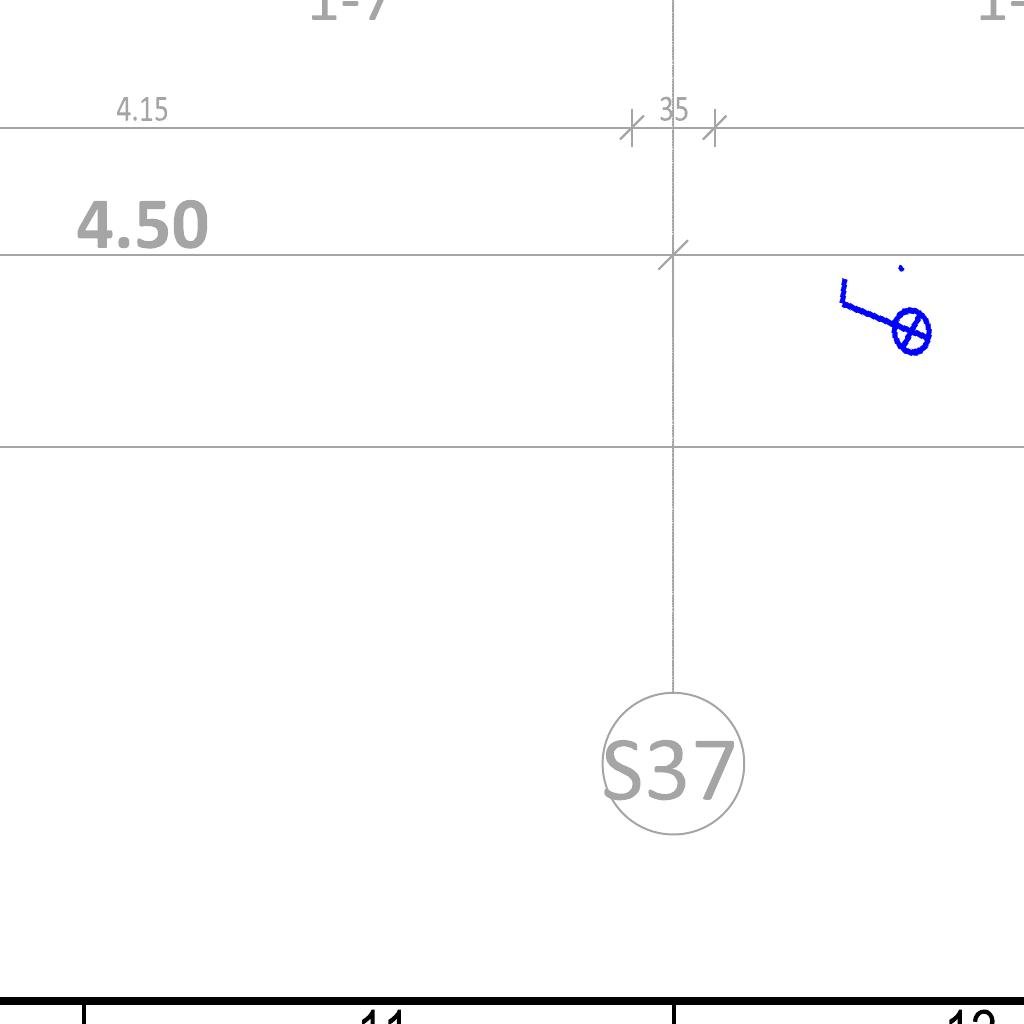Ausschalter_beleuchtet: (826, 255, 940, 383)
